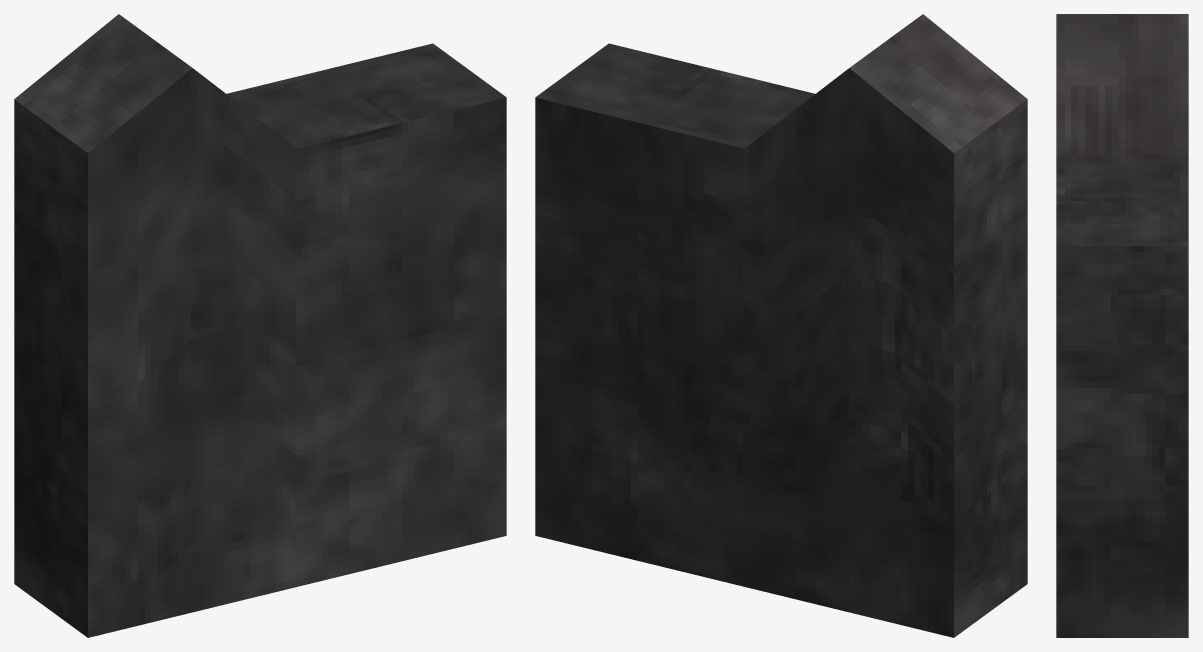
File: balk_13.glb
3 renders of one model, left to right at view 1: azimuth 30°, elevation 25°; view 2: azimuth 150°, elevation 25°; view 3: azimuth 270°, elevation 25°, orthographic. The views are drawn at different scales.
Parts seen in each view (by area): view 1: Куб.008; view 2: Куб.008; view 3: Куб.008.
Boxes of the visible parts, x1,y1,x2,y2 form: Куб.008: [14, 14, 506, 637]; Куб.008: [535, 14, 1027, 637]; Куб.008: [1056, 14, 1188, 637].
Bounding box in the file's own units: 2.49 × 3.09 × 0.7589.
1 material, 1 textured.
